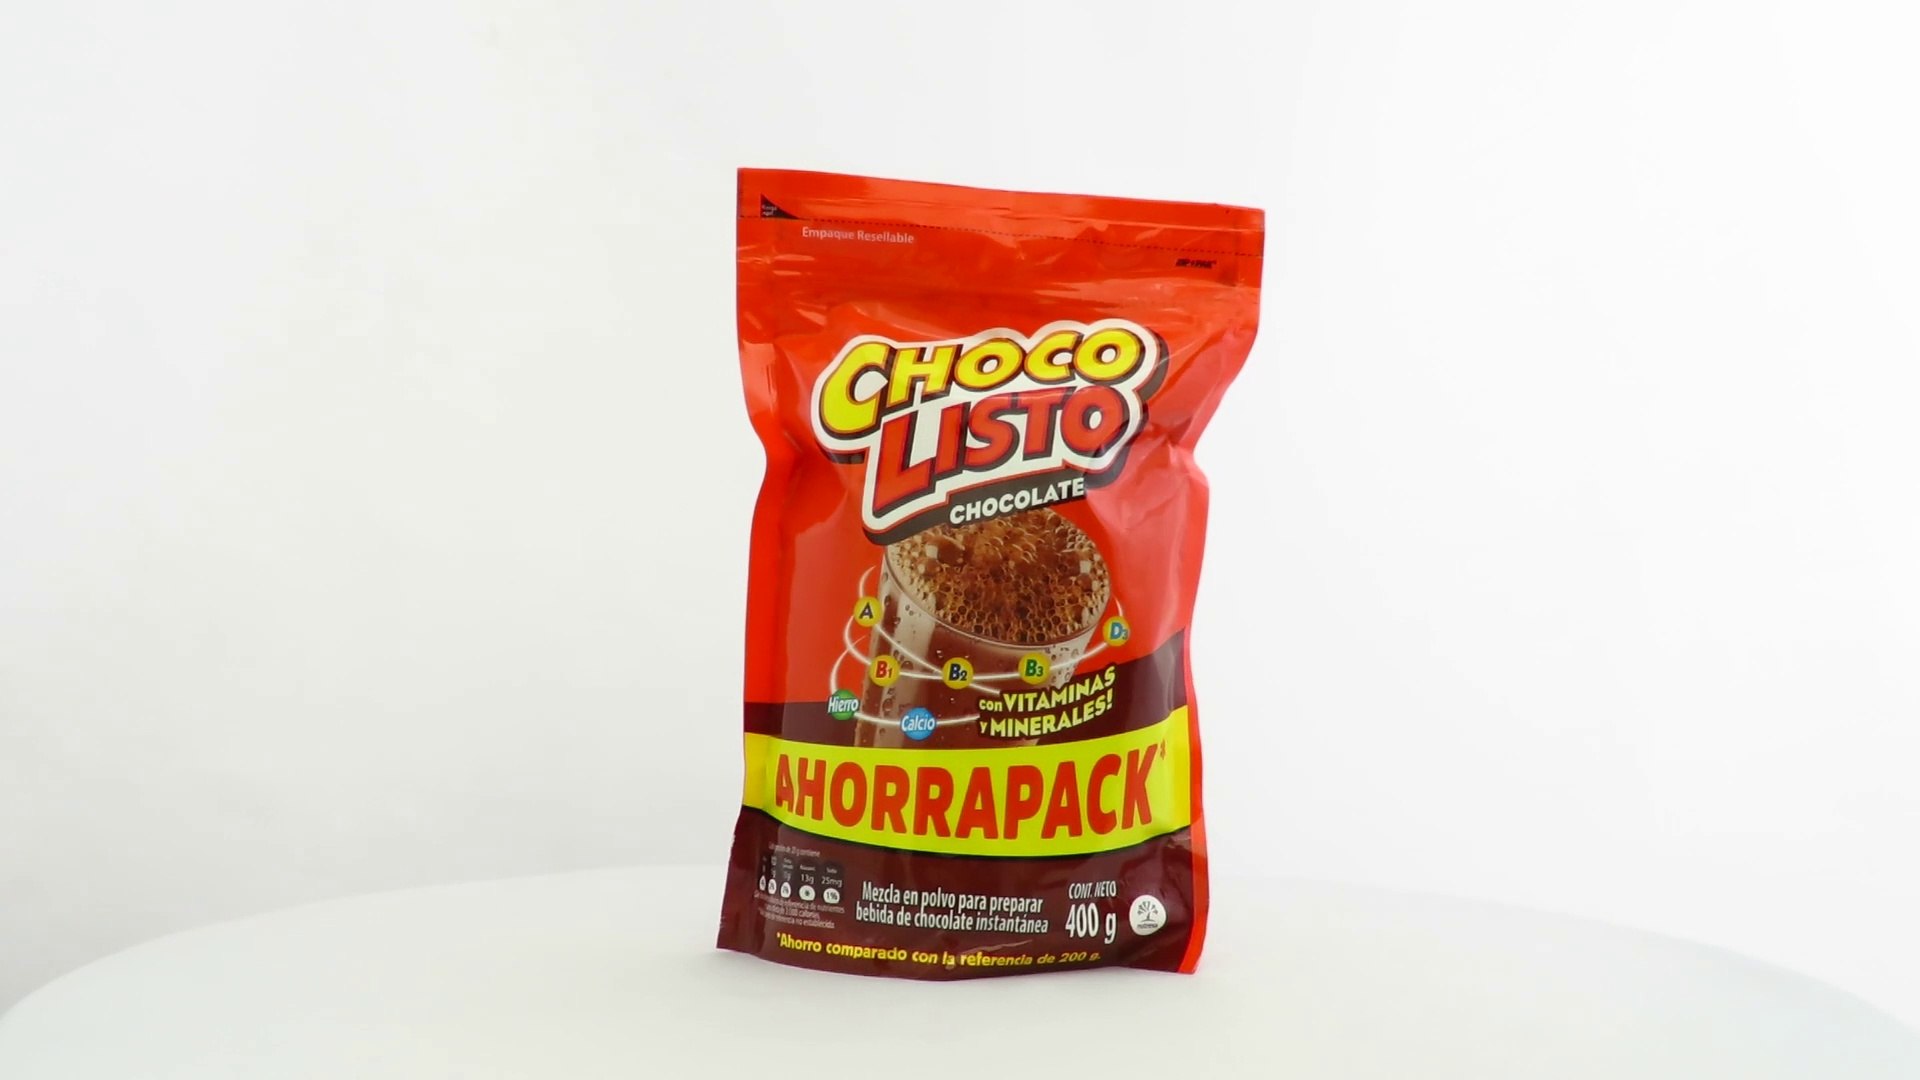COL0170103DYP40000: (711, 162, 1271, 988)
